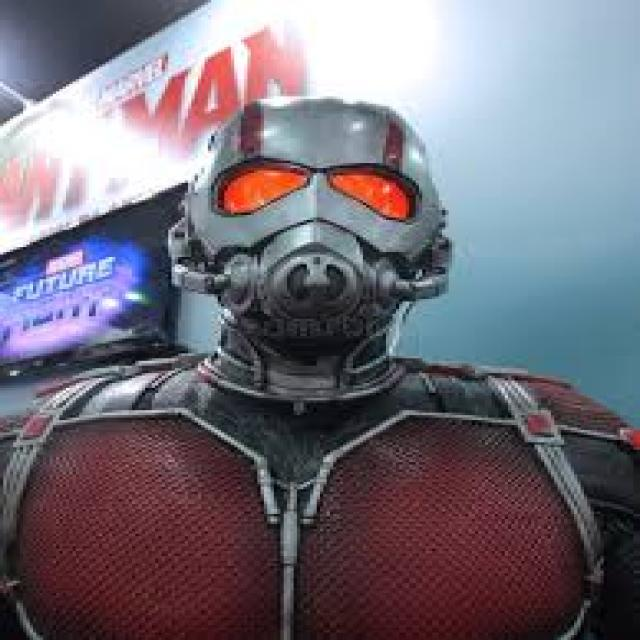antman: (5, 1, 640, 640)
